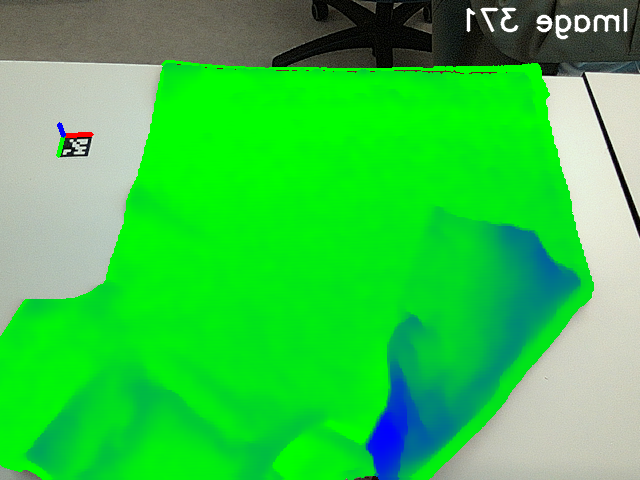V: (410, 191, 494, 279)
